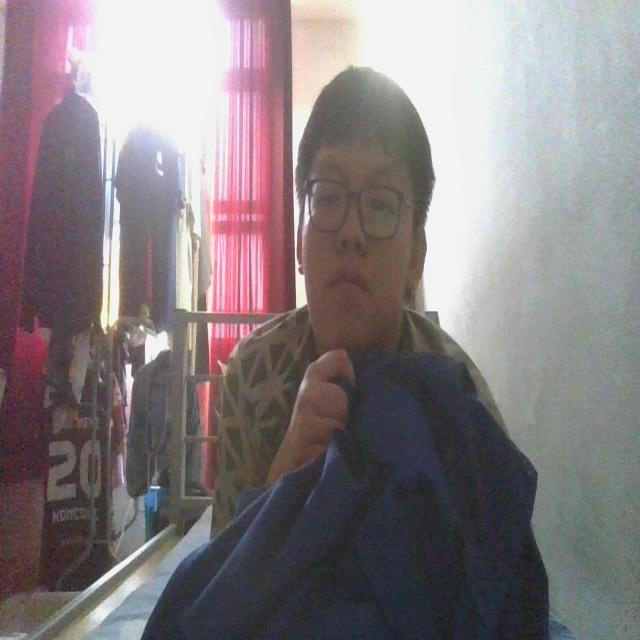person_without_labcoat: (142, 68, 549, 639)
